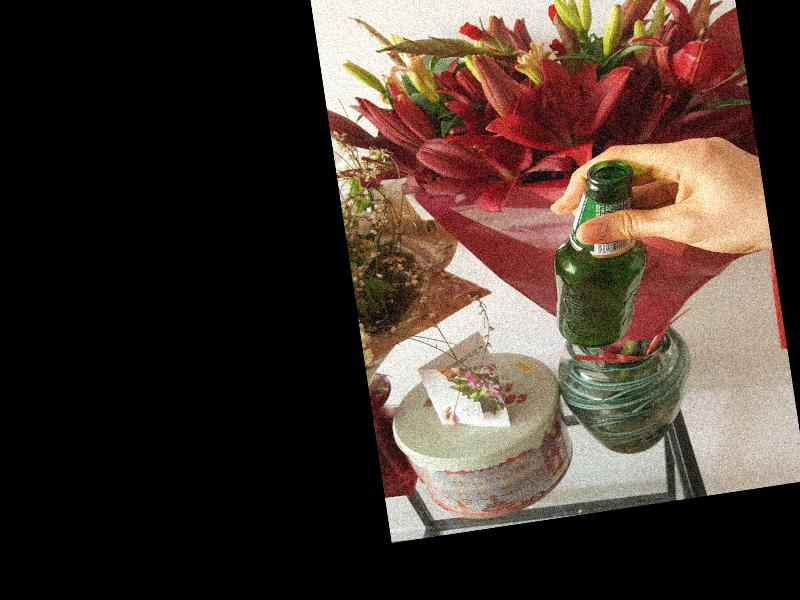Beer: (534, 158, 659, 352)
